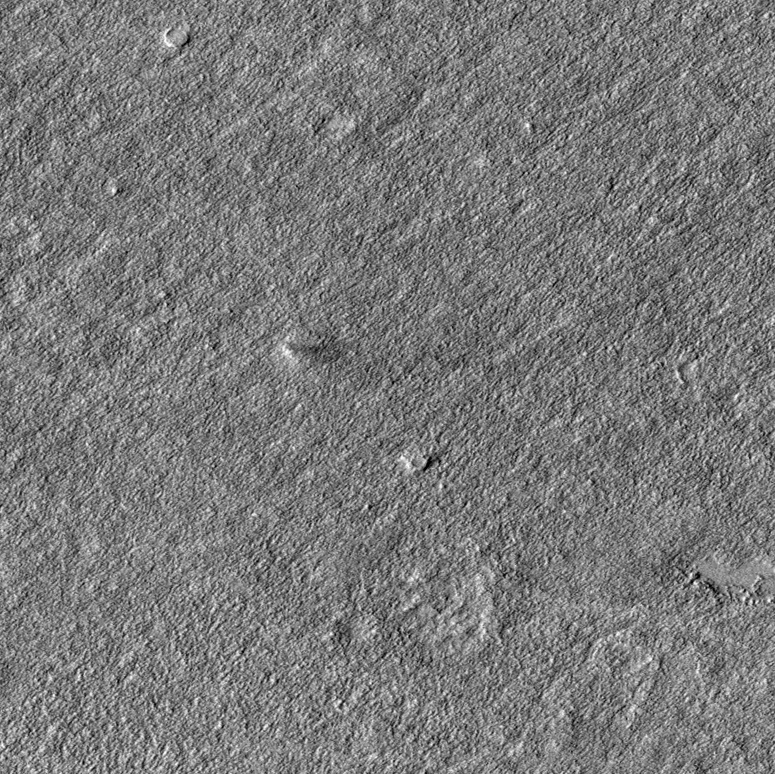dust_devil: (276, 341, 351, 374)
